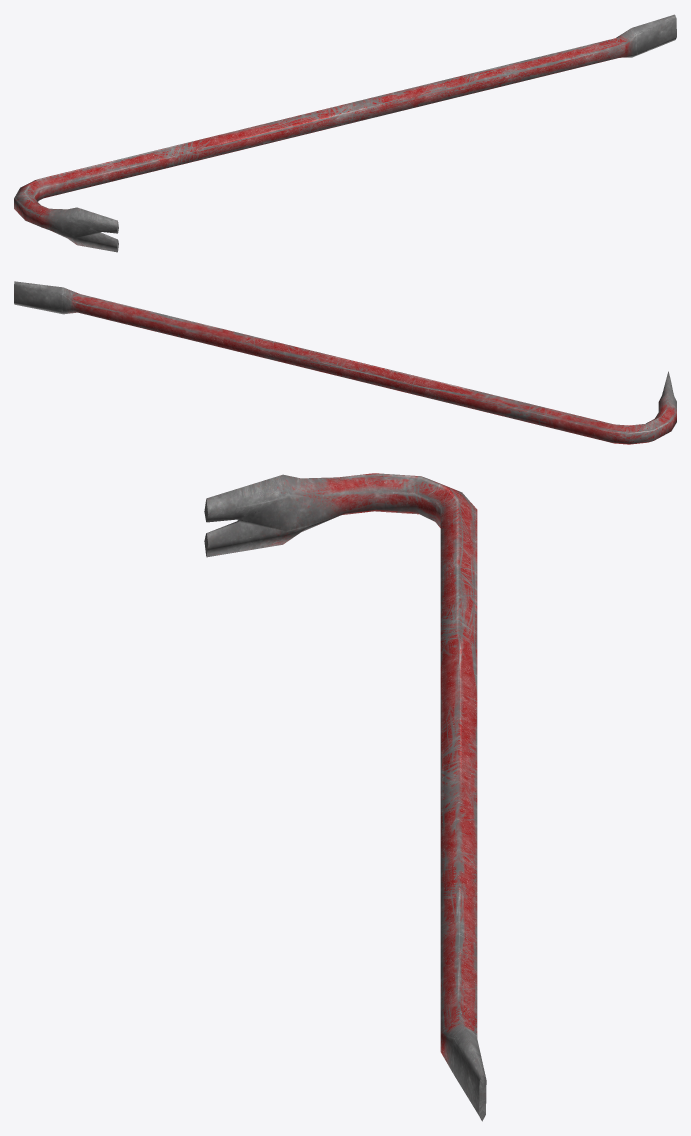
The model's file is crowBar.FBX.
3 views of the same model, one above another, from view 1: azimuth 30°, elevation 25°; view 2: azimuth 150°, elevation 25°; view 3: azimuth 270°, elevation 25° (orthographic). The views are drawn at different scales.
Visible parts, largest first — view 1: SM_Crowbar; view 2: SM_Crowbar; view 3: SM_Crowbar.
Part boxes in pixels (bbox=[...]): SM_Crowbar: bbox=[14, 14, 676, 252]; SM_Crowbar: bbox=[14, 281, 676, 444]; SM_Crowbar: bbox=[204, 473, 486, 1121].
Size of the model in its own units: 88.49 by 4.71 by 17.16.
1 material, 1 textured.
